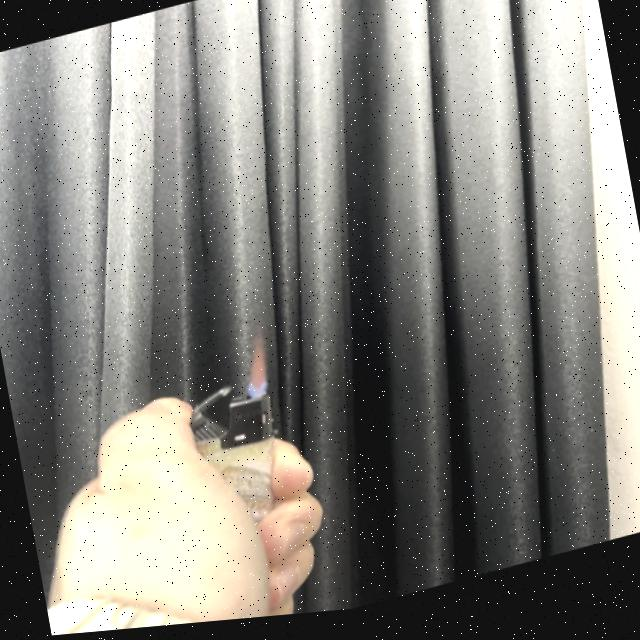Fire: (236, 338, 274, 407)
